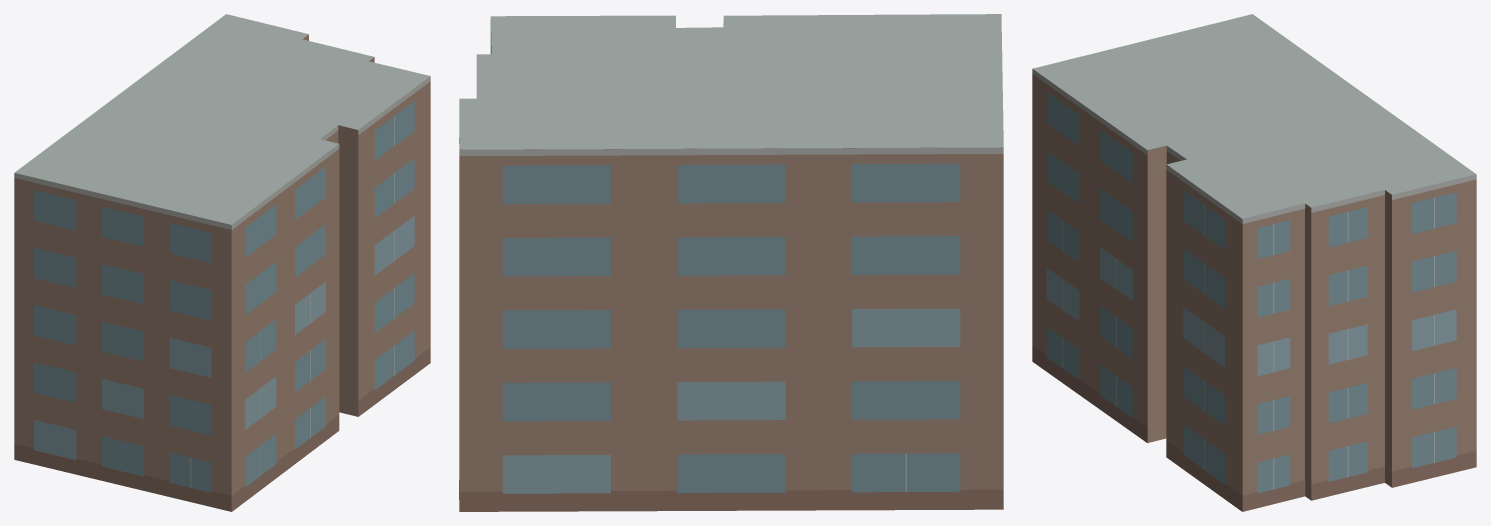
The model's file is survey-upis-32460143.glb.
The picture shows the model from 3 angles, left to right: view 1: azimuth 30°, elevation 25°; view 2: azimuth 150°, elevation 25°; view 3: azimuth 270°, elevation 25°; orthographic projection. The views are drawn at different scales.
Parts seen in each view (by area): view 1: survey-upis-32460143.tmp; view 2: survey-upis-32460143.tmp; view 3: survey-upis-32460143.tmp.
Part boxes in pixels (left/top/right/bottom): survey-upis-32460143.tmp: left=14, top=14, right=430, bottom=511; survey-upis-32460143.tmp: left=459, top=14, right=1003, bottom=511; survey-upis-32460143.tmp: left=1032, top=14, right=1476, bottom=511.
Size of the model in its own units: 20.62 by 13.74 by 18.89.
